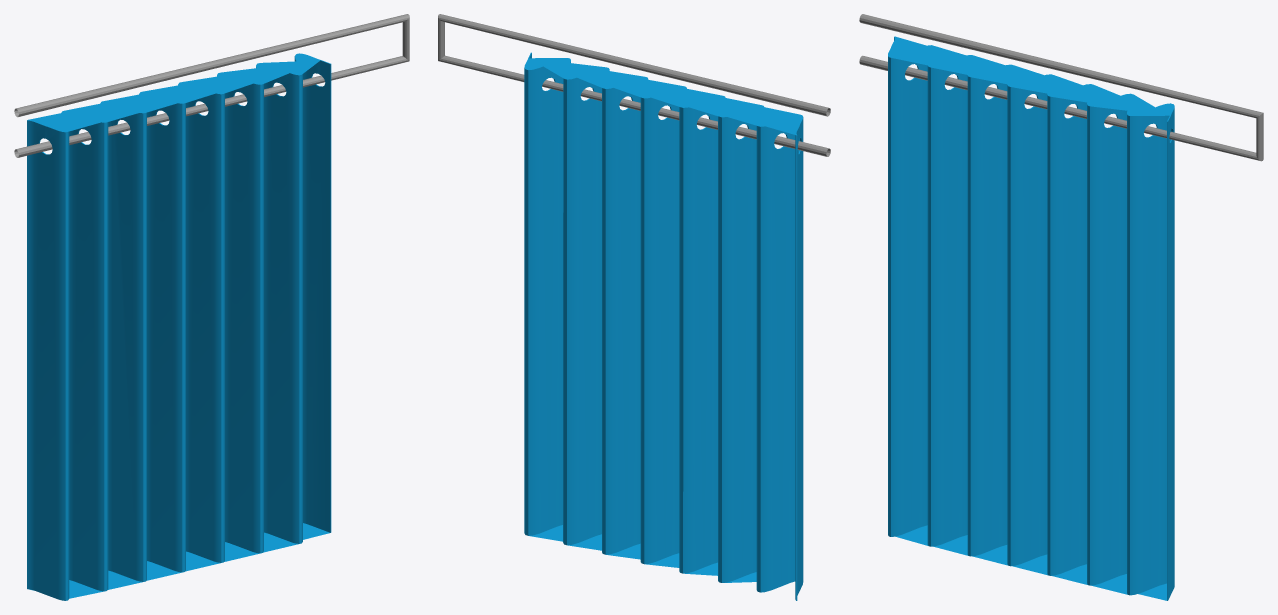
The picture shows the model from 3 angles, left to right: view 1: azimuth 30°, elevation 25°; view 2: azimuth 150°, elevation 25°; view 3: azimuth 330°, elevation 25°; orthographic projection. The views are drawn at different scales.
Visible parts, largest first — view 1: H-25; view 2: H-25; view 3: H-25.
Boxes of the visible parts, <box> form: H-25: <box>14,14,409,600</box>; H-25: <box>438,14,830,600</box>; H-25: <box>859,14,1263,600</box>.
Size of the model in its own units: 201 by 242 by 20.14.
